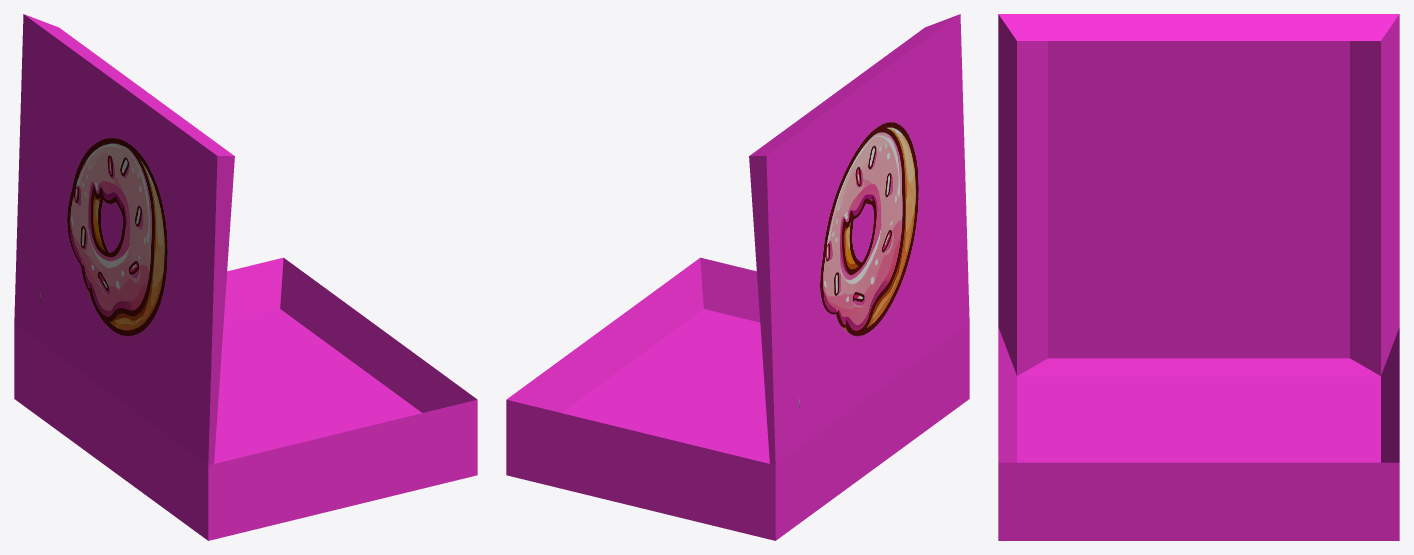
The model's file is caja.obj.
The picture shows the model from 3 angles, left to right: view 1: azimuth 30°, elevation 25°; view 2: azimuth 150°, elevation 25°; view 3: azimuth 270°, elevation 25°; orthographic projection. The views are drawn at different scales.
Visible parts, largest first — view 1: Mesh; view 2: Mesh; view 3: Mesh.
Boxes of the visible parts, <box> form: Mesh: <box>14,14,477,540</box>; Mesh: <box>506,14,969,540</box>; Mesh: <box>998,14,1399,540</box>.
Bounding box in the file's own units: 3.7 × 5.02 × 4.62.
1 material, 1 textured.
